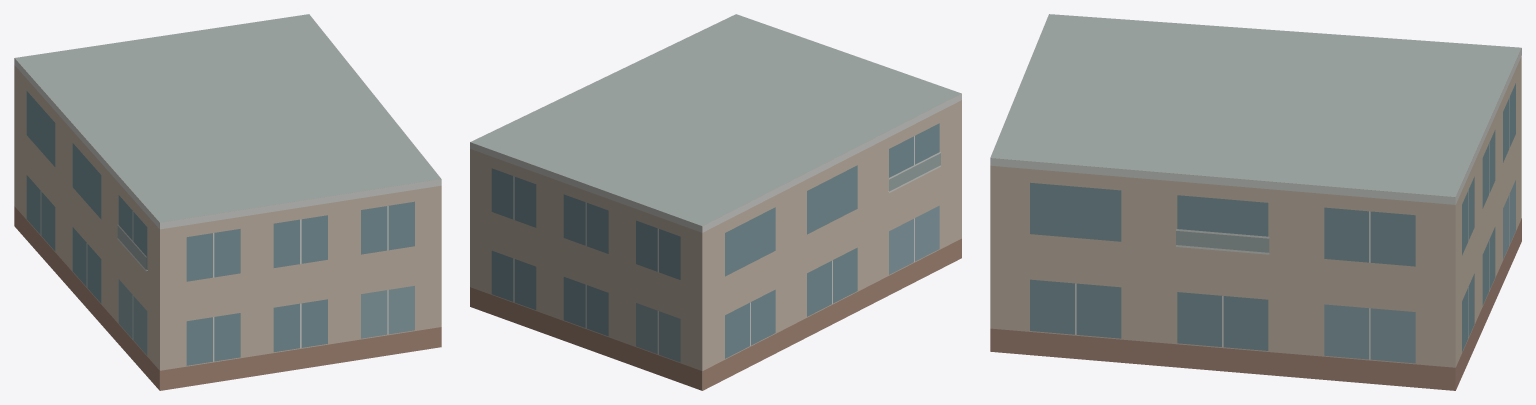
File: survey-upis-32677985.glb
3 views of the same model, side by side, from view 1: azimuth 30°, elevation 25°; view 2: azimuth 150°, elevation 25°; view 3: azimuth 270°, elevation 25° (orthographic). The views are drawn at different scales.
Visible parts, largest first — view 1: survey-upis-32677985.tmp; view 2: survey-upis-32677985.tmp; view 3: survey-upis-32677985.tmp.
Boxes of the visible parts, box(x1,y1,x2,y2) form: survey-upis-32677985.tmp: box(14, 14, 441, 390); survey-upis-32677985.tmp: box(470, 14, 961, 390); survey-upis-32677985.tmp: box(990, 14, 1521, 390).
Size of the model in its own units: 12.38 by 6.1 by 15.18.
